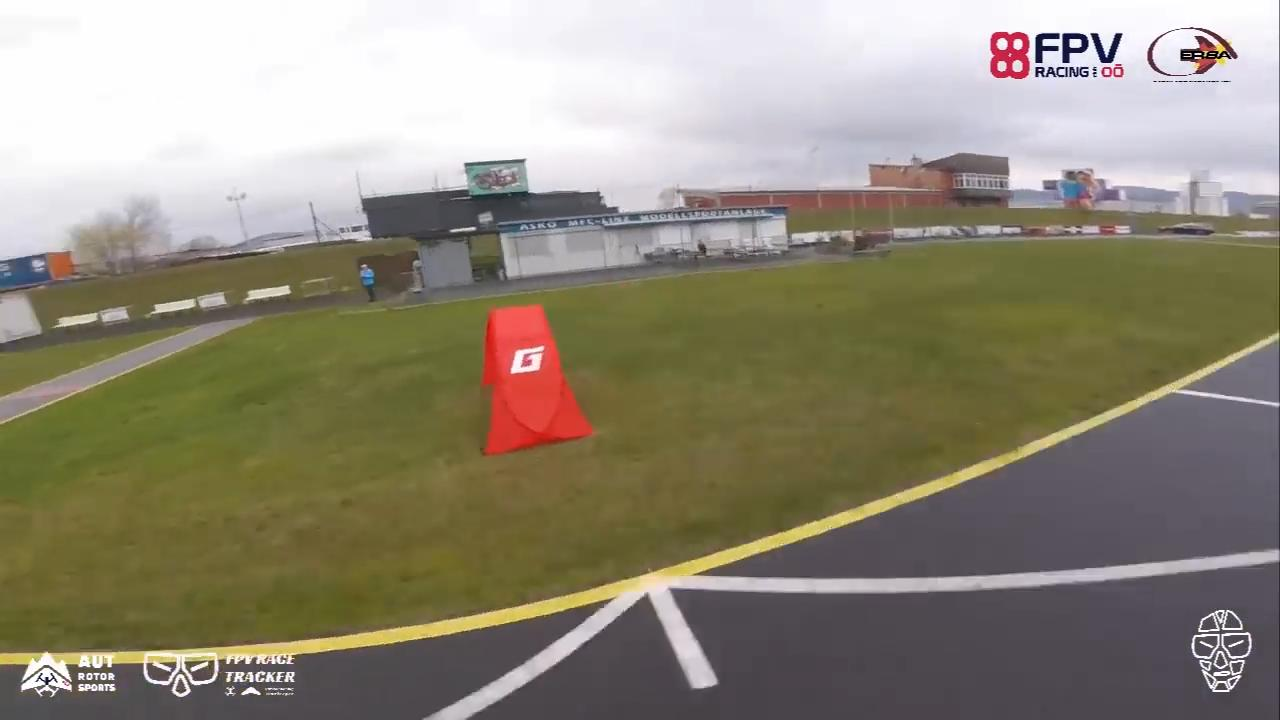gate: (474, 304, 588, 454)
